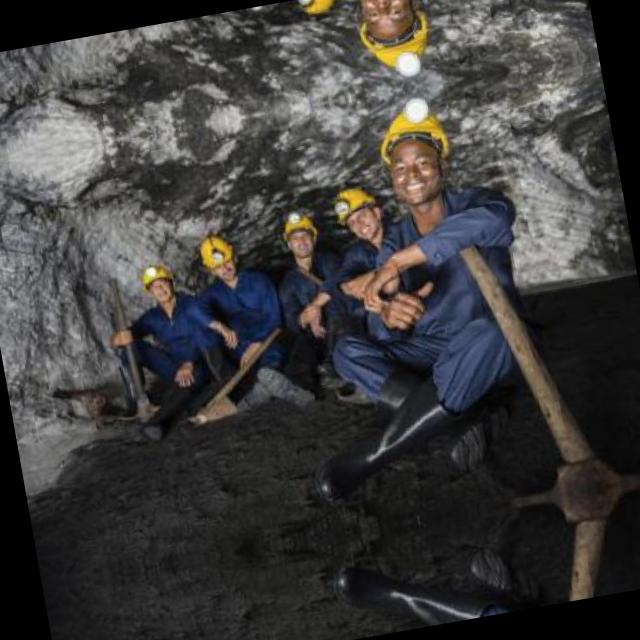helmet: (366, 95, 464, 217), (345, 0, 441, 82), (328, 180, 388, 244), (278, 204, 322, 262), (194, 228, 238, 282), (136, 259, 175, 304), (293, 0, 348, 21)
